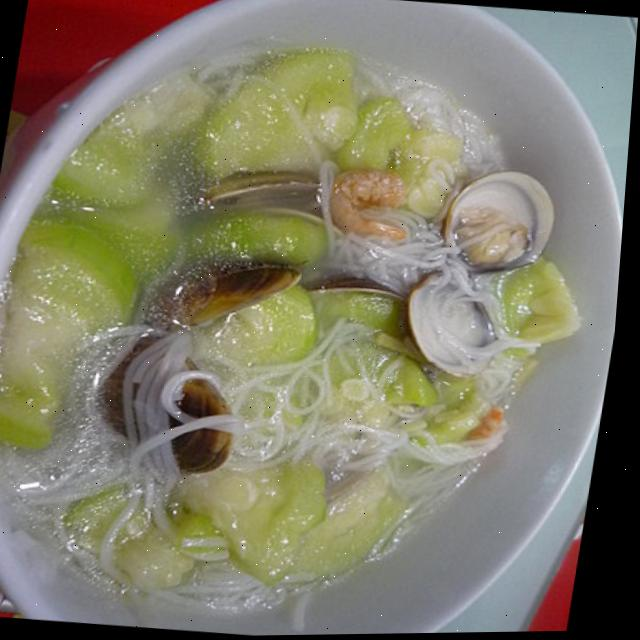Wet: (2, 76, 580, 569)
